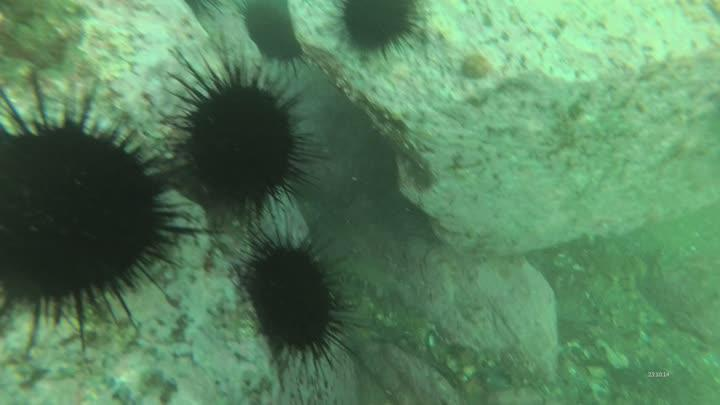urchin: (1, 78, 189, 332), (167, 50, 330, 222), (230, 225, 356, 375), (325, 1, 420, 54)
